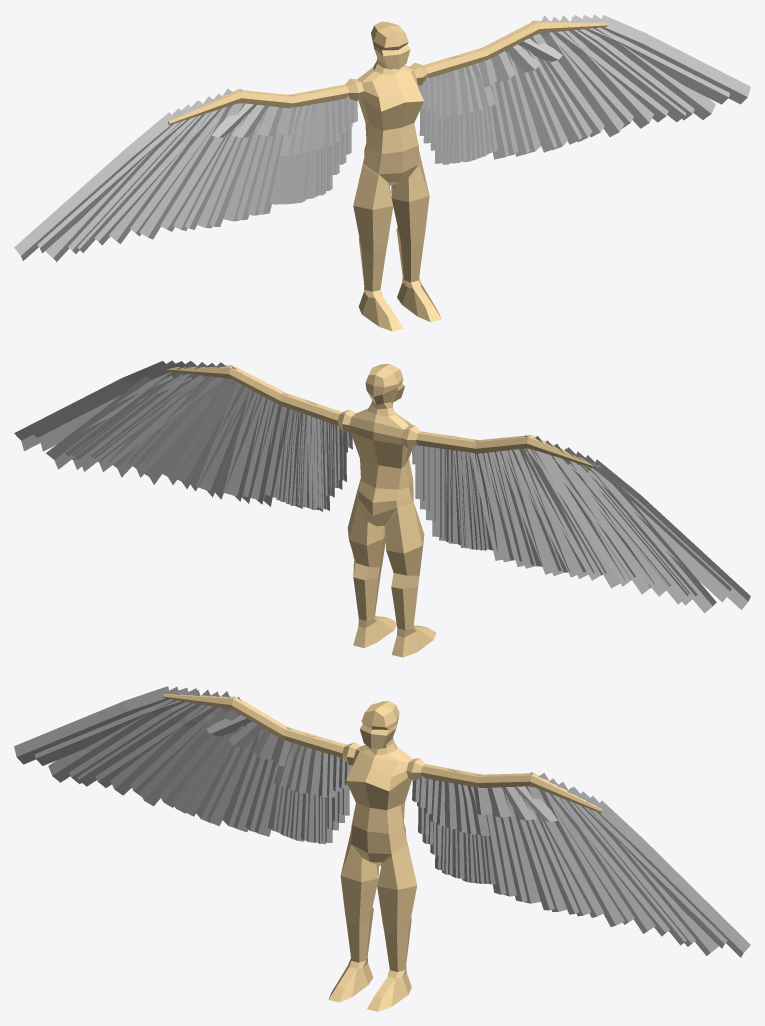
Rendered from harpy_test_render.fbx.
3 views of the same model, one above another, from view 1: azimuth 30°, elevation 25°; view 2: azimuth 150°, elevation 25°; view 3: azimuth 330°, elevation 25° (orthographic).
Visible parts, largest first — view 1: Harpy, WingtipFeathers, WingtipFeathers.001, ForewingFeathers.001, ForewingFeathers, BicepFeathers.002, BicepFeathers, ForewingFeathers.002, BicepFeathers.001; view 2: Harpy, WingtipFeathers, WingtipFeathers.001, ForewingFeathers, ForewingFeathers.001, BicepFeathers.001, BicepFeathers; view 3: Harpy, WingtipFeathers, WingtipFeathers.001, ForewingFeathers.001, ForewingFeathers, BicepFeathers.002, BicepFeathers, ForewingFeathers.002, BicepFeathers.001.
Boxes of the visible parts, x1=… form: Harpy: x1=168, y1=20, x2=607, y2=331; WingtipFeathers: x1=14, y1=14, x2=750, y2=261; WingtipFeathers.001: x1=37, y1=15, x2=729, y2=253; ForewingFeathers.001: x1=185, y1=25, x2=582, y2=229; ForewingFeathers: x1=173, y1=37, x2=592, y2=230; BicepFeathers.002: x1=279, y1=63, x2=494, y2=155; BicepFeathers: x1=270, y1=48, x2=497, y2=204; ForewingFeathers.002: x1=212, y1=38, x2=562, y2=137; BicepFeathers.001: x1=279, y1=48, x2=491, y2=203; Harpy: x1=162, y1=364, x2=600, y2=657; WingtipFeathers: x1=14, y1=360, x2=750, y2=613; WingtipFeathers.001: x1=33, y1=361, x2=731, y2=605; ForewingFeathers: x1=171, y1=378, x2=594, y2=578; ForewingFeathers.001: x1=180, y1=372, x2=586, y2=577; BicepFeathers.001: x1=269, y1=394, x2=492, y2=550; BicepFeathers: x1=265, y1=393, x2=497, y2=550; Harpy: x1=163, y1=694, x2=602, y2=1011; WingtipFeathers: x1=14, y1=686, x2=750, y2=957; WingtipFeathers.001: x1=34, y1=688, x2=727, y2=948; ForewingFeathers.001: x1=181, y1=702, x2=579, y2=914; ForewingFeathers: x1=171, y1=714, x2=591, y2=916; BicepFeathers.002: x1=273, y1=743, x2=489, y2=835; BicepFeathers: x1=268, y1=727, x2=495, y2=884; ForewingFeathers.002: x1=206, y1=715, x2=557, y2=821; BicepFeathers.001: x1=276, y1=727, x2=488, y2=883.
Size of the model in its own units: 886 by 321 by 81.44.
